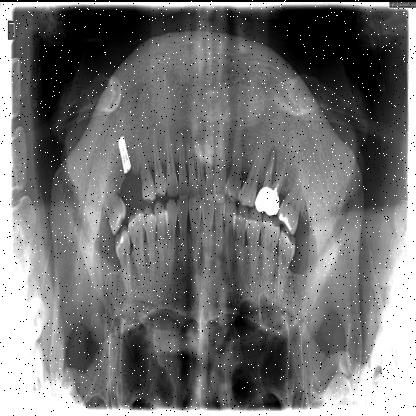ITI: (115, 130, 133, 172)
